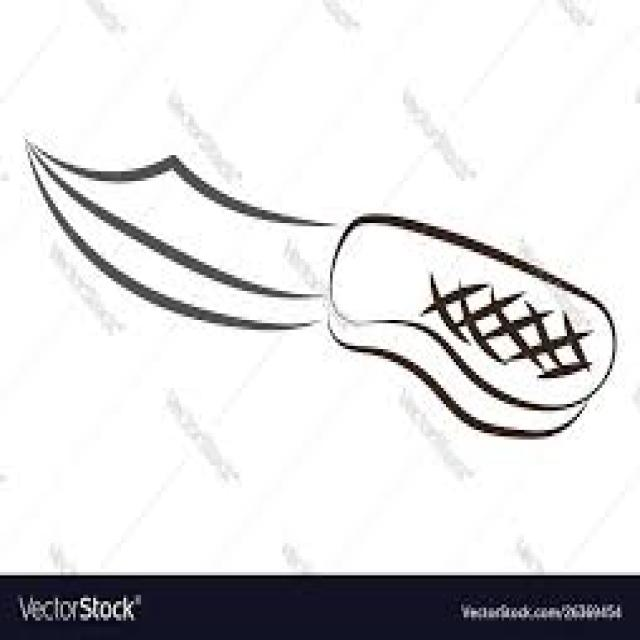Knife: (23, 132, 617, 436)
